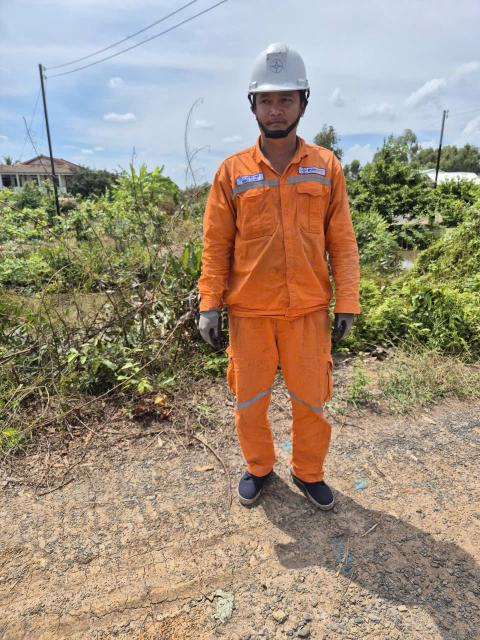gloves: (190, 305, 233, 352), (328, 305, 358, 349)
helmet: (237, 33, 318, 107)
shoes: (283, 455, 344, 511), (224, 452, 278, 508)
